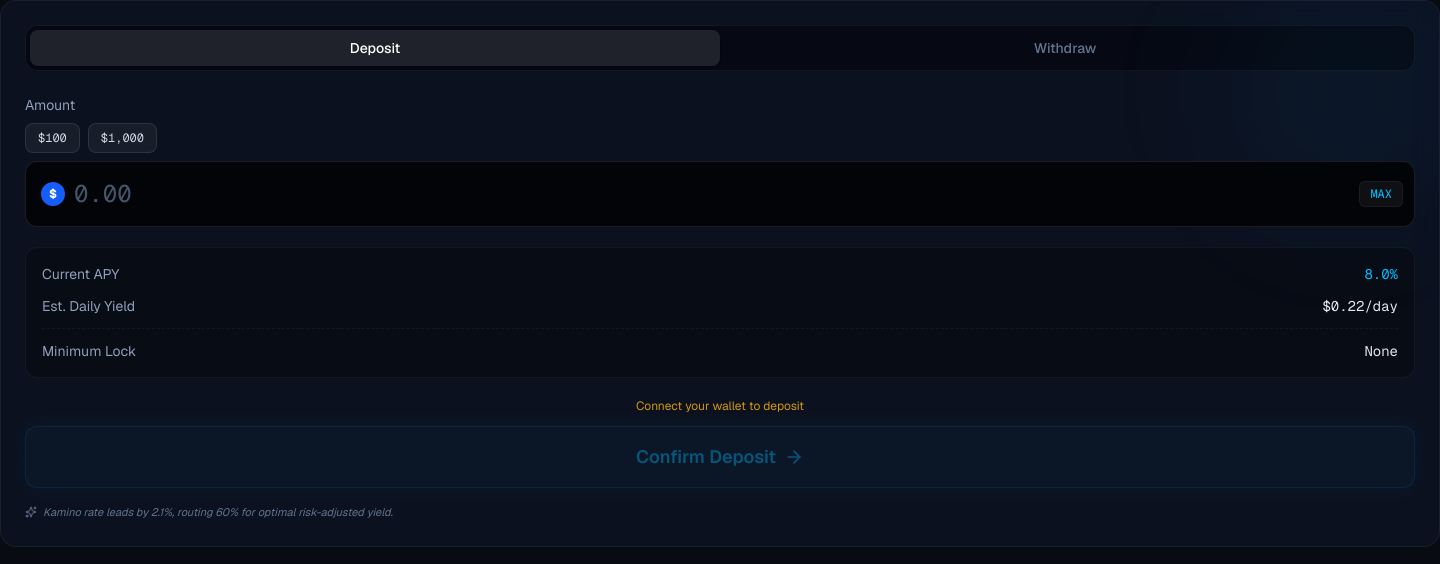
Test: DepositForm — preset amount buttons › rendering › does NOT render preset buttons in withdraw mode
This screenshot has width=1440, height=564.
// Switch to withdraw mode
Click the button "Withdraw" at [1065, 48], box left=720, top=30, right=1410, bottom=66
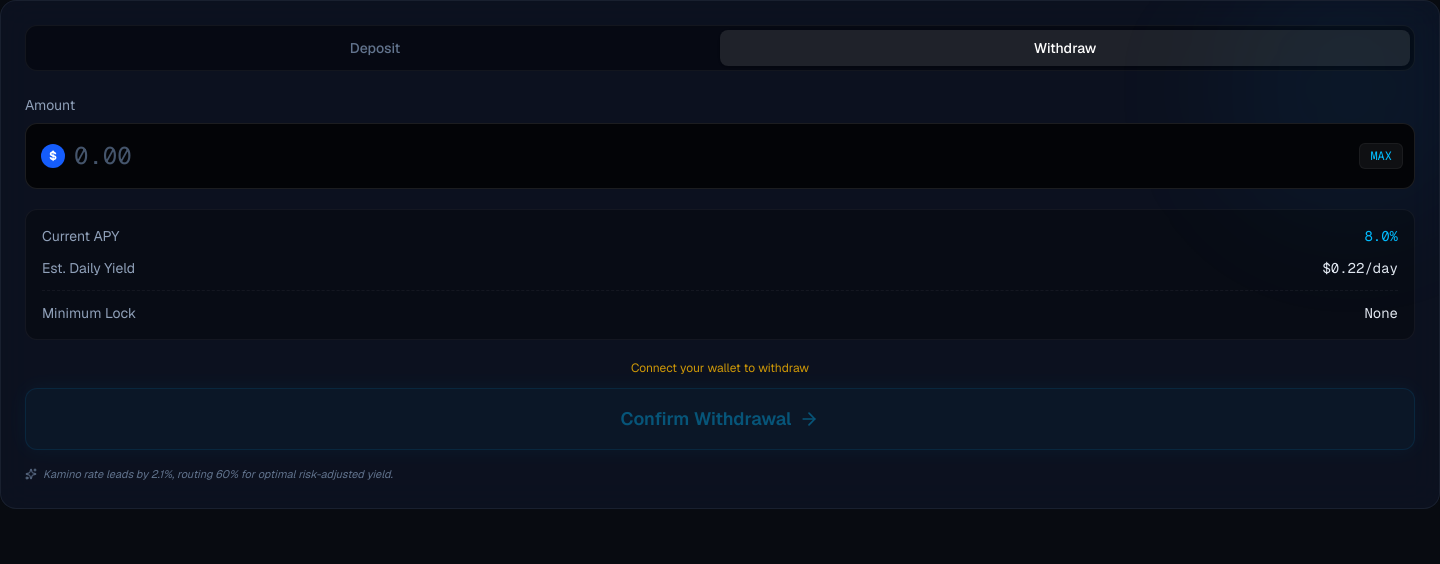
Check: the button "$100" is gone
Check: the button "$1,000" is gone
